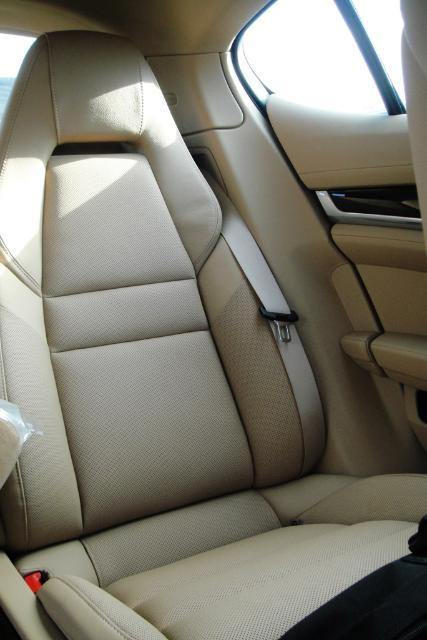Seatbelt: (202, 168, 326, 478)
